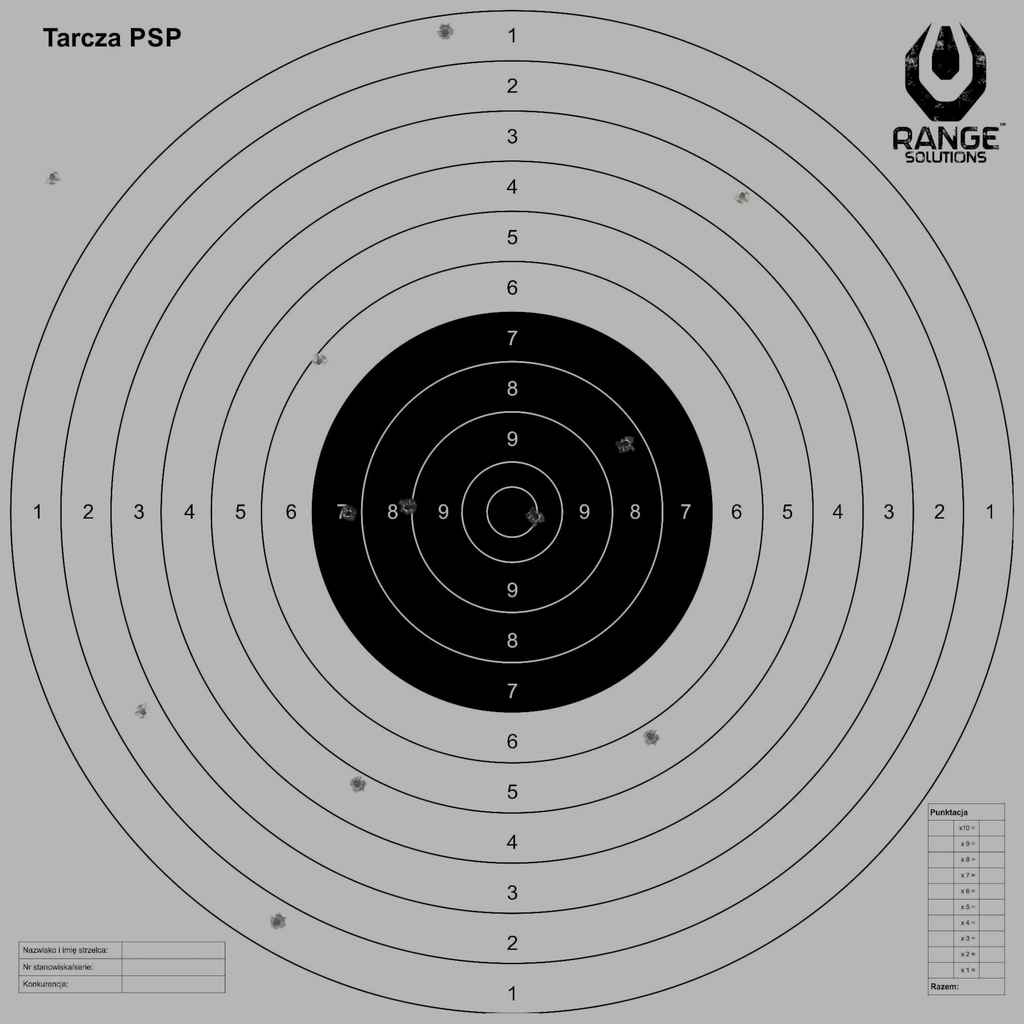0 punktow: (43, 168, 62, 186)
1 punkt: (268, 913, 287, 931)
10 punktow: (526, 507, 544, 525)
2 punkty: (134, 703, 152, 721)
3 punkty: (733, 187, 752, 205)
4 punkty: (348, 775, 367, 793)
5 punktow: (642, 728, 660, 746)
6 punktow: (310, 352, 328, 371)
7 punktow: (339, 504, 358, 523)
8 punktow: (616, 435, 634, 453)
9 punktow: (399, 498, 417, 516)
